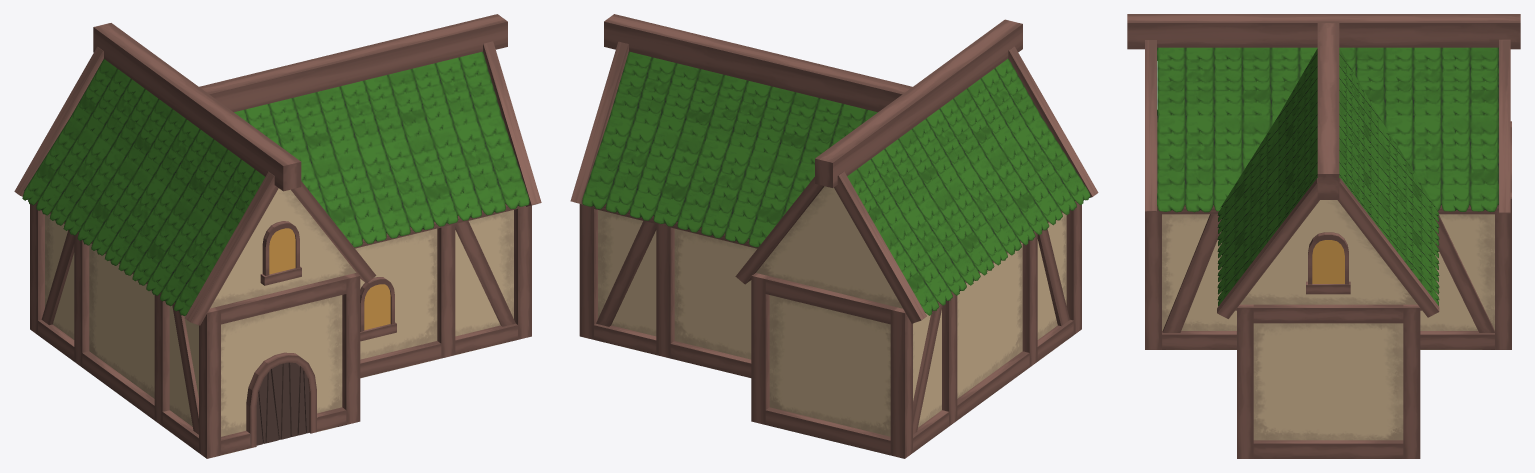
File: Medieval House Design_01.fbx
The picture shows the model from 3 angles, left to right: view 1: azimuth 30°, elevation 25°; view 2: azimuth 150°, elevation 25°; view 3: azimuth 270°, elevation 25°; orthographic projection. The views are drawn at different scales.
Parts seen in each view (by area): view 1: Cube.177; view 2: Cube.177; view 3: Cube.177.
Boxes of the visible parts, x1=… form: Cube.177: x1=14, y1=14, x2=541, y2=458; Cube.177: x1=570, y1=14, x2=1098, y2=458; Cube.177: x1=1127, y1=14, x2=1520, y2=458.
Size of the model in its own units: 640 by 431 by 526.
1 material, 1 textured.
